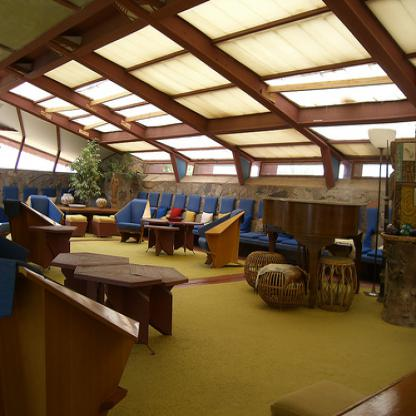chair: (197, 208, 246, 270), (112, 195, 151, 243), (24, 192, 64, 225)
pottedplant: (64, 134, 102, 206)
